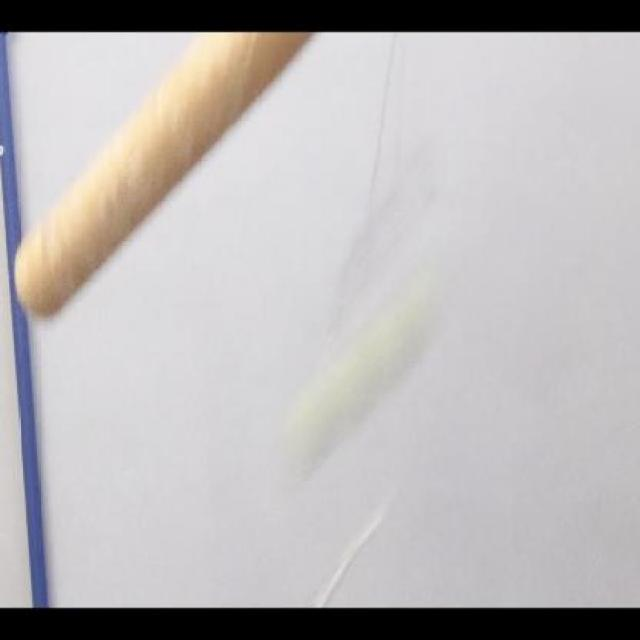baseball: (290, 320, 428, 472)
